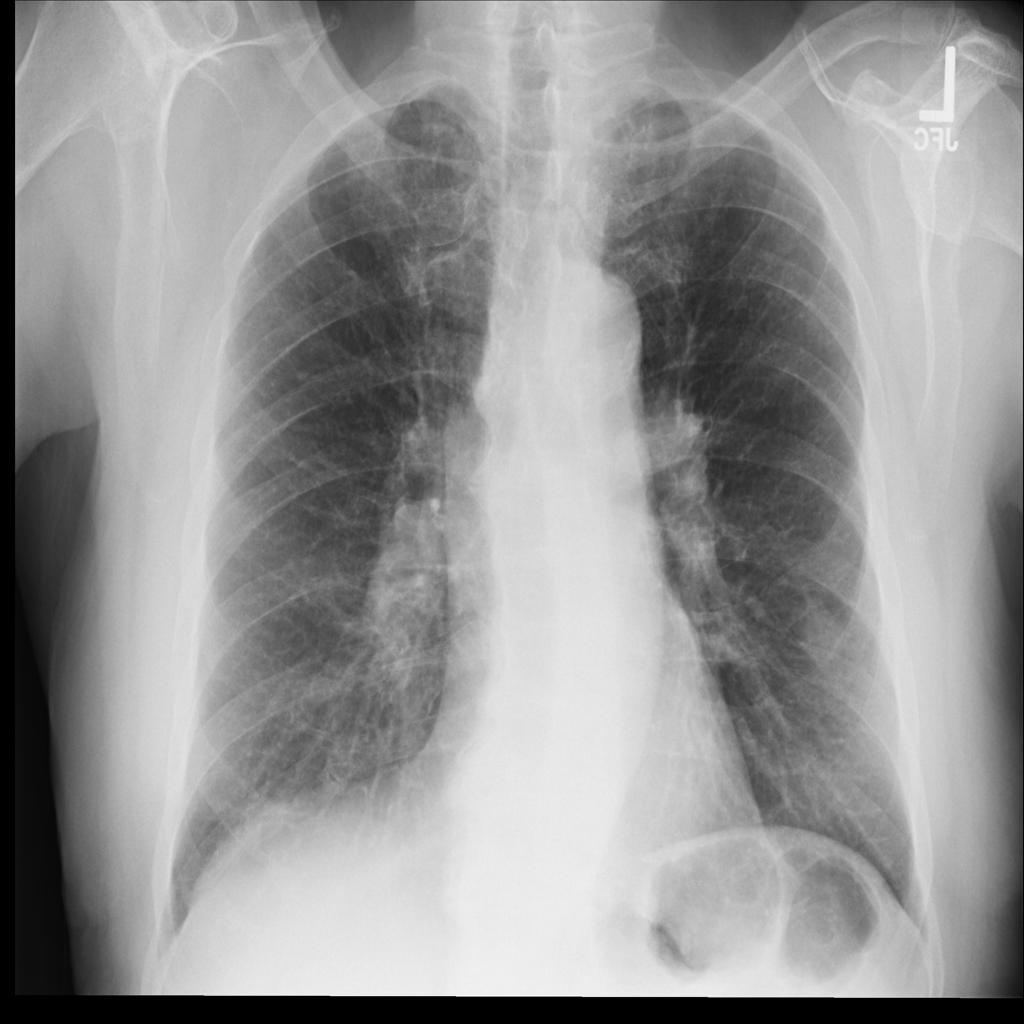nodule: (786, 586, 861, 675)
